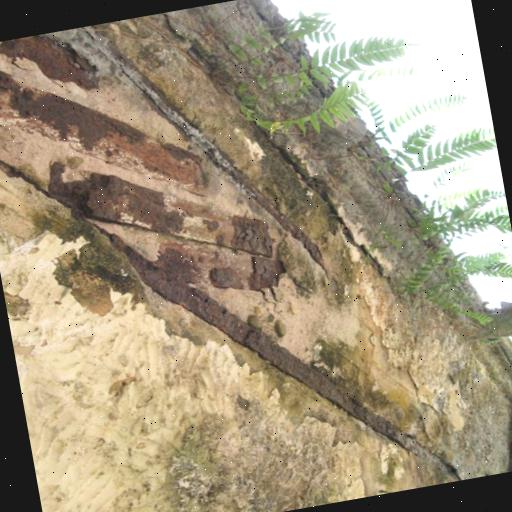spalling: (0, 24, 415, 473)
